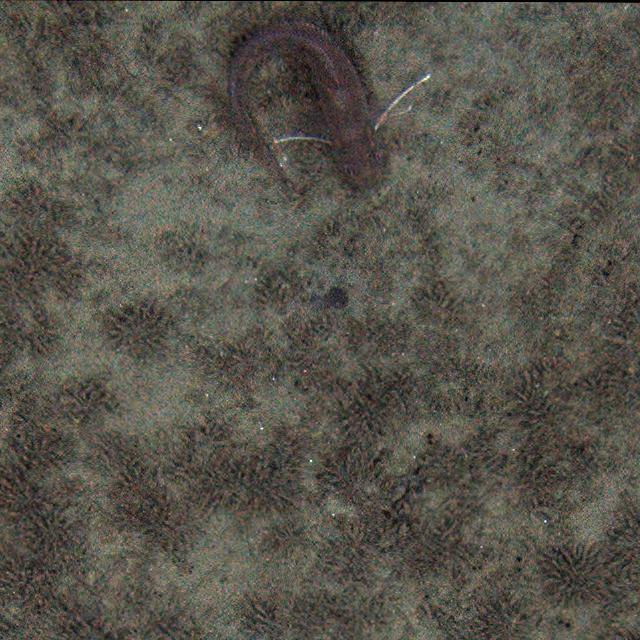roundfish: (230, 11, 429, 196)
